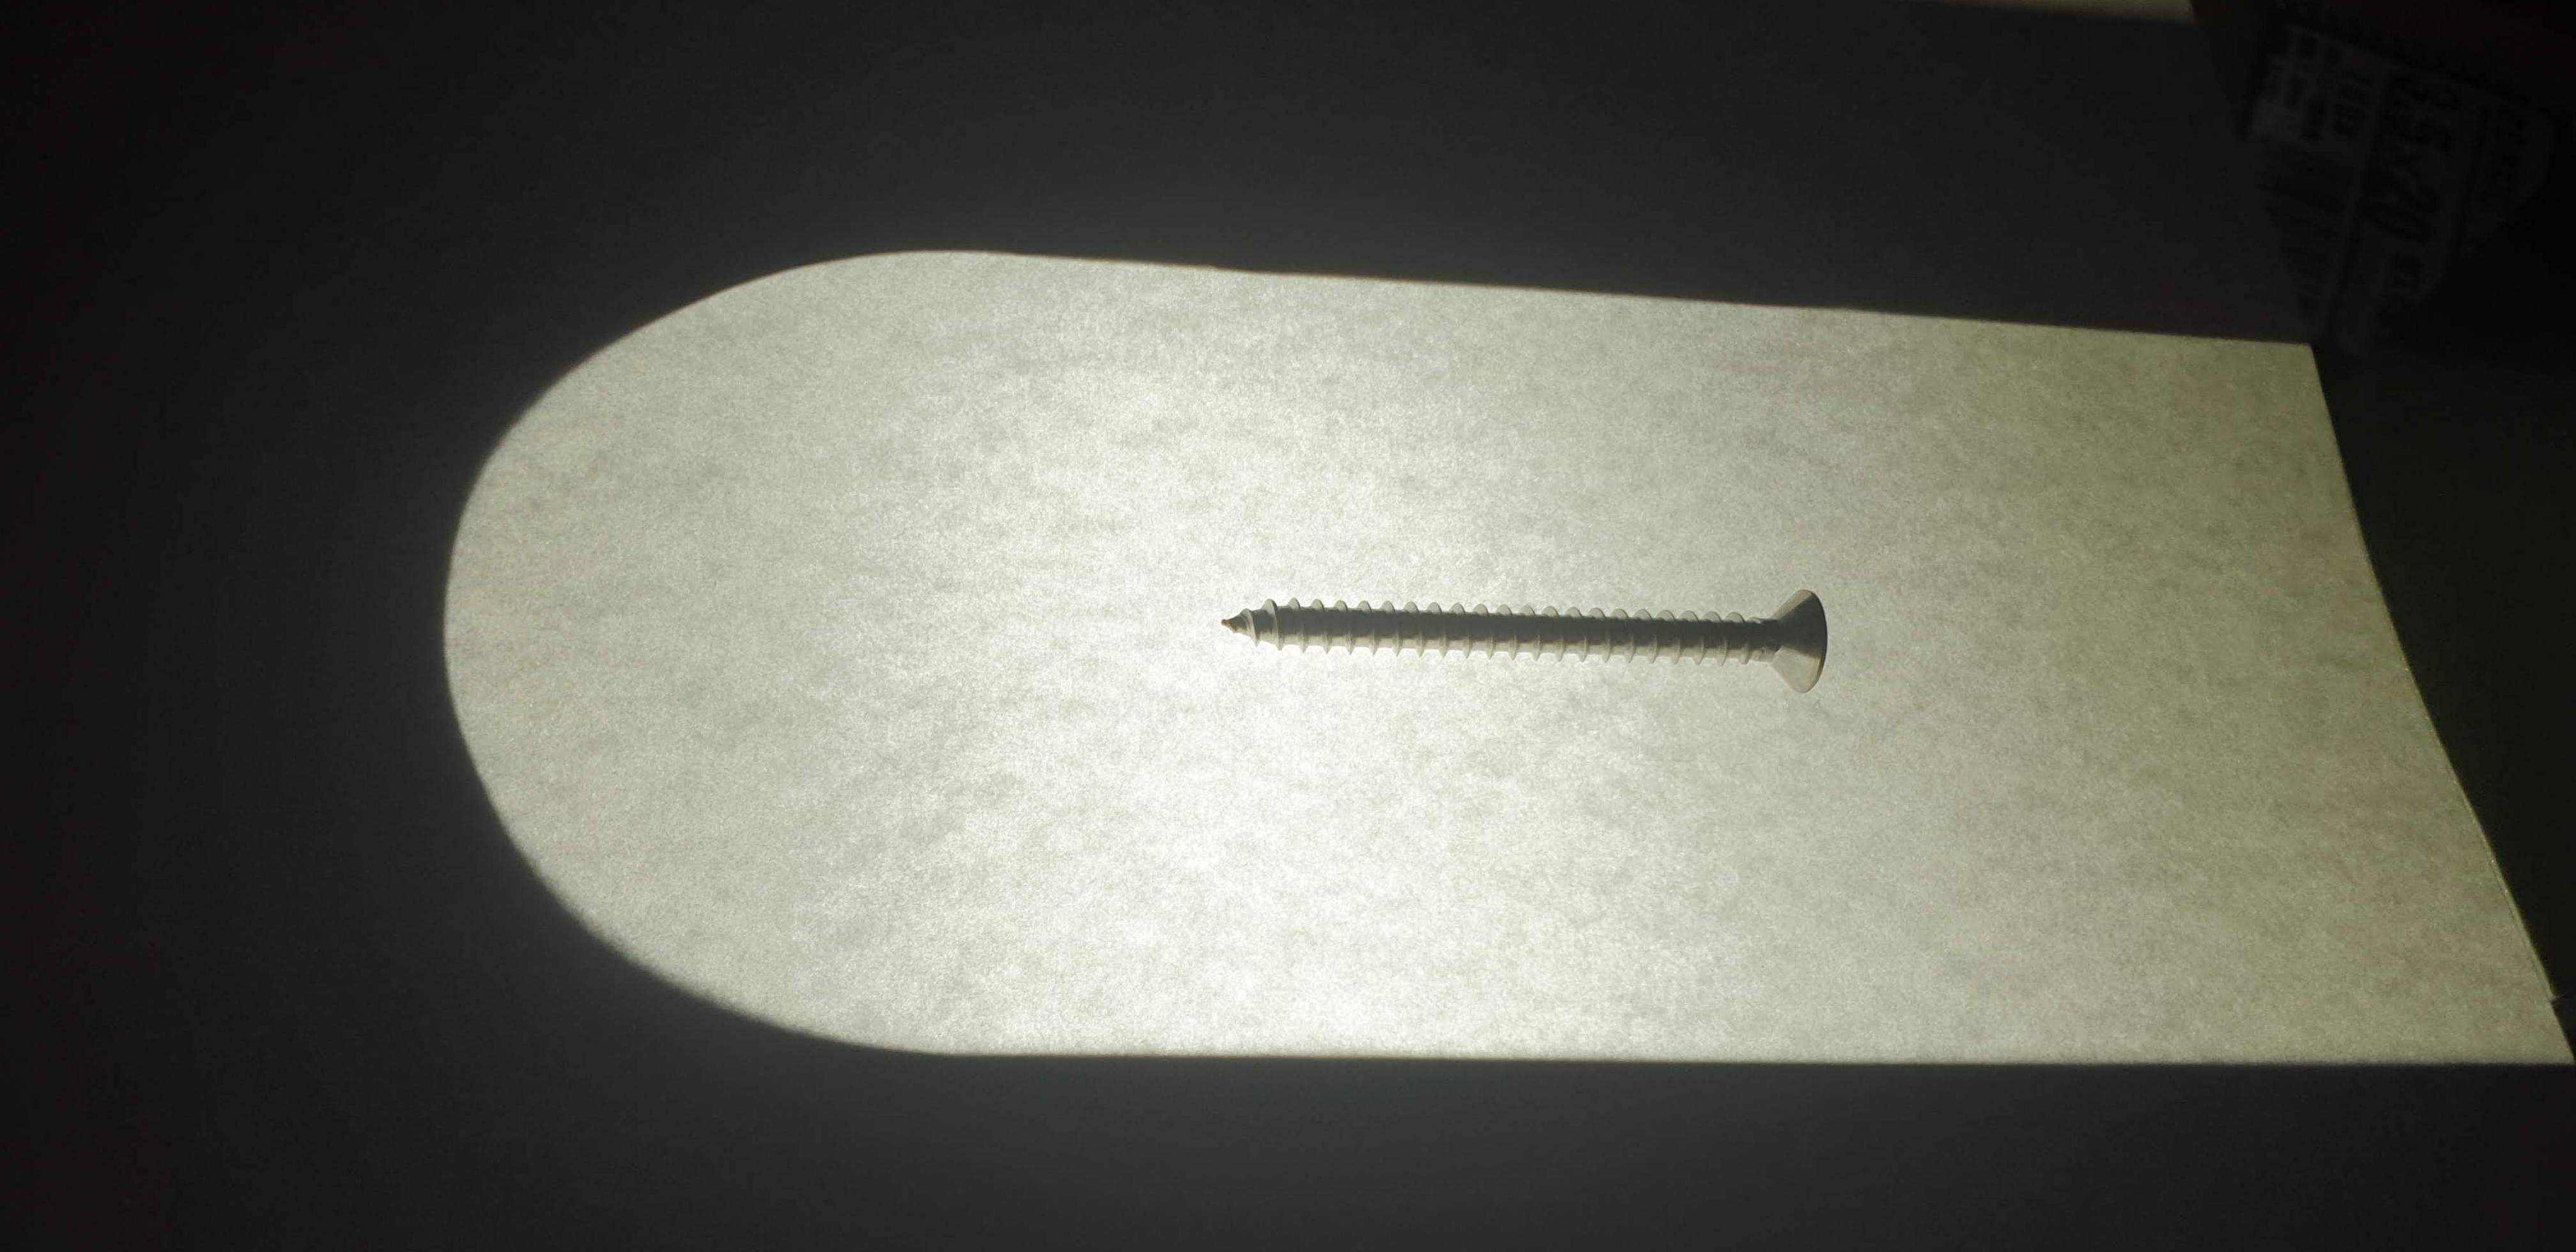S001: (1209, 531, 1868, 734)
